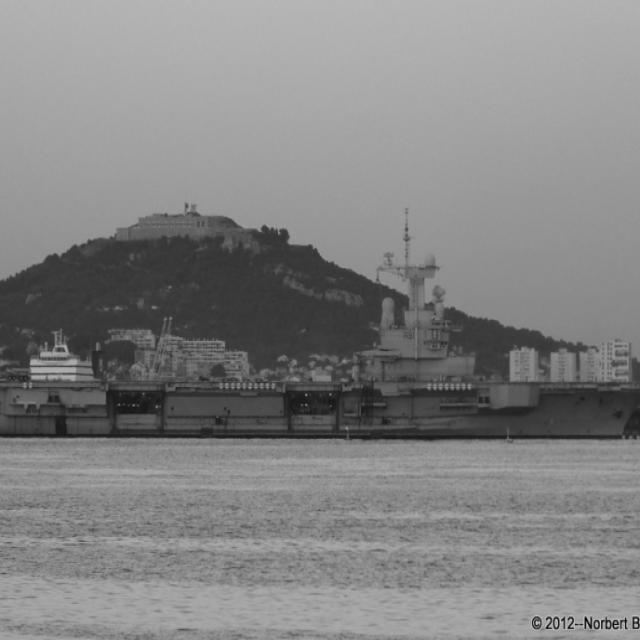Portanaves: (1, 201, 640, 446)
